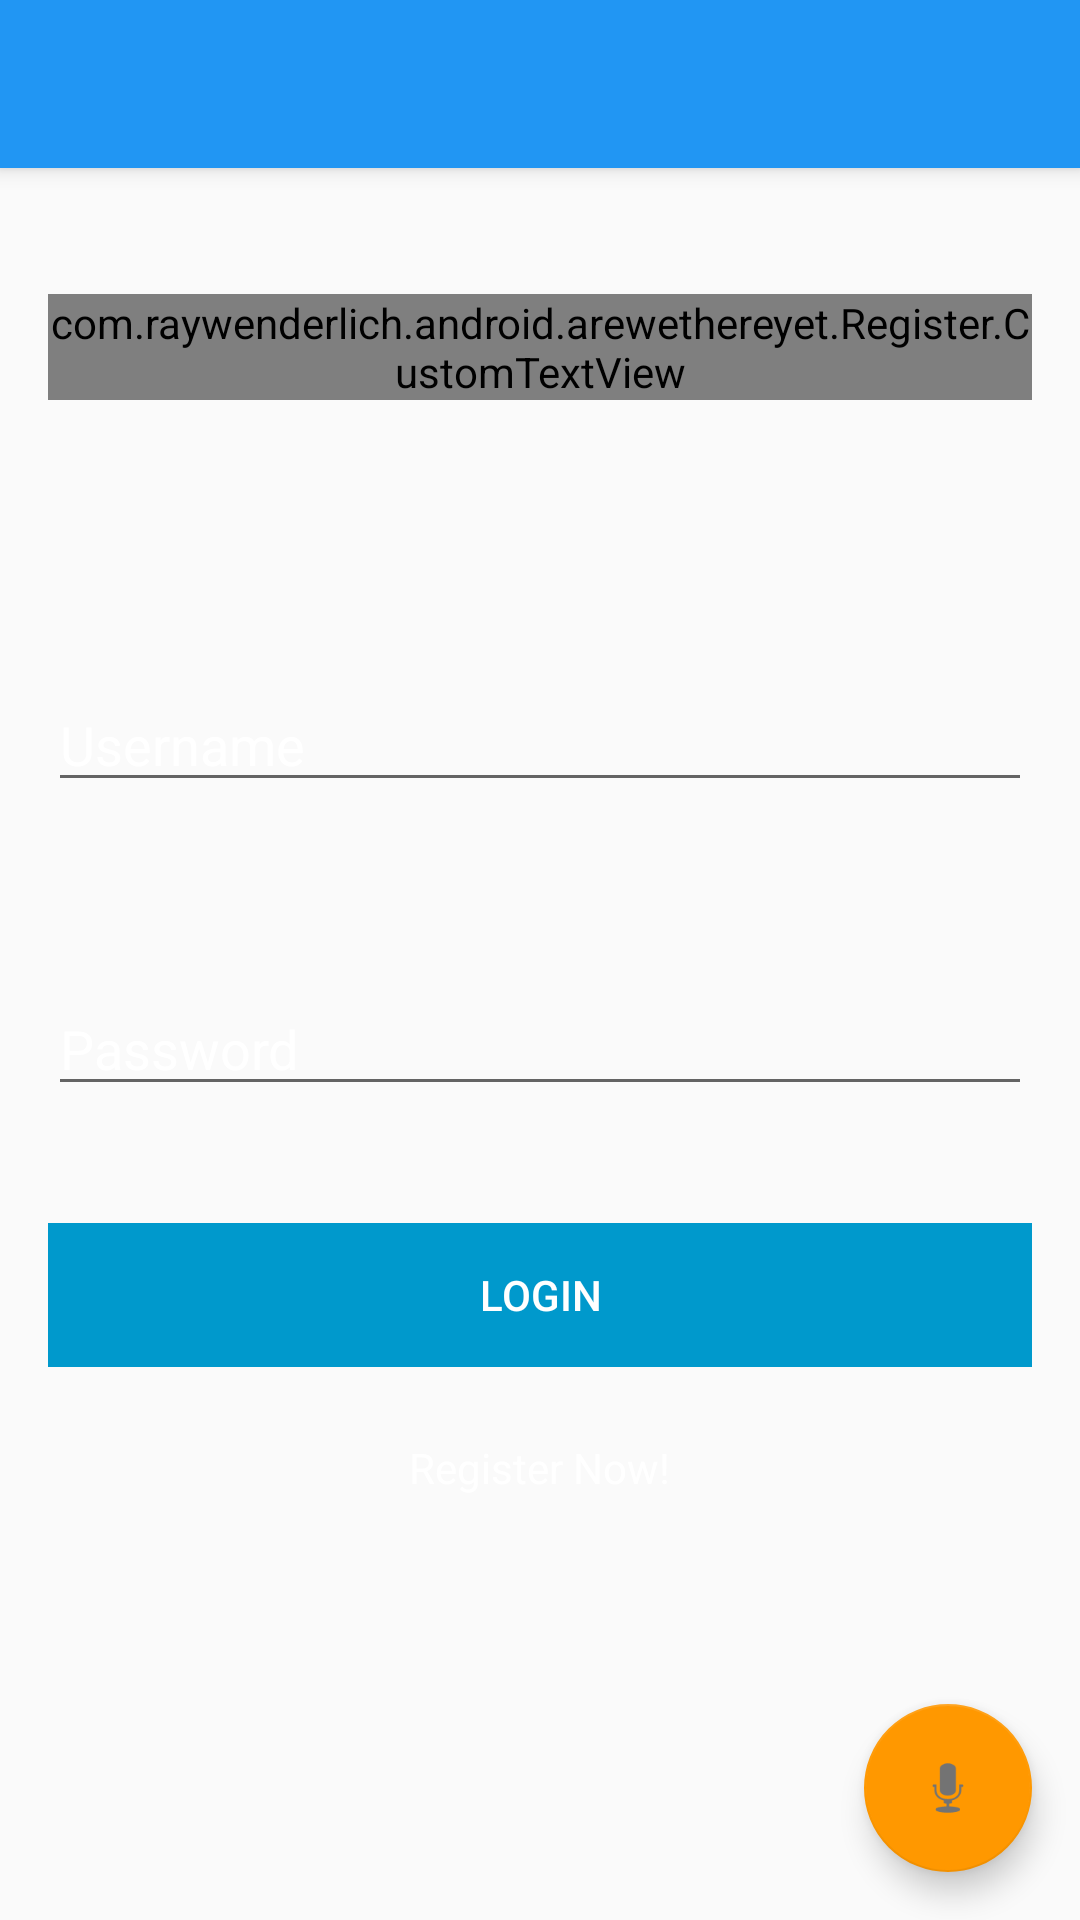

Locate icon controls on the screen. Image size 1080px×1920px, boxes as (x1, y1, x2, y2).
speak now: (864, 1704, 1032, 1872)
